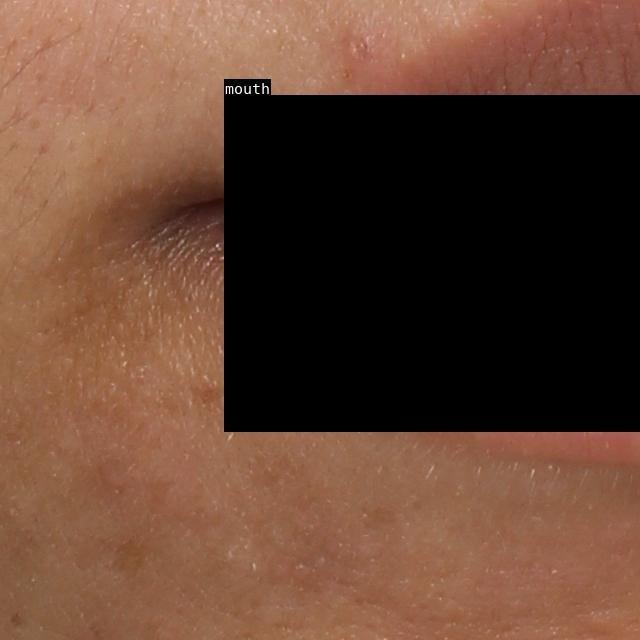papule: (340, 28, 381, 74)
